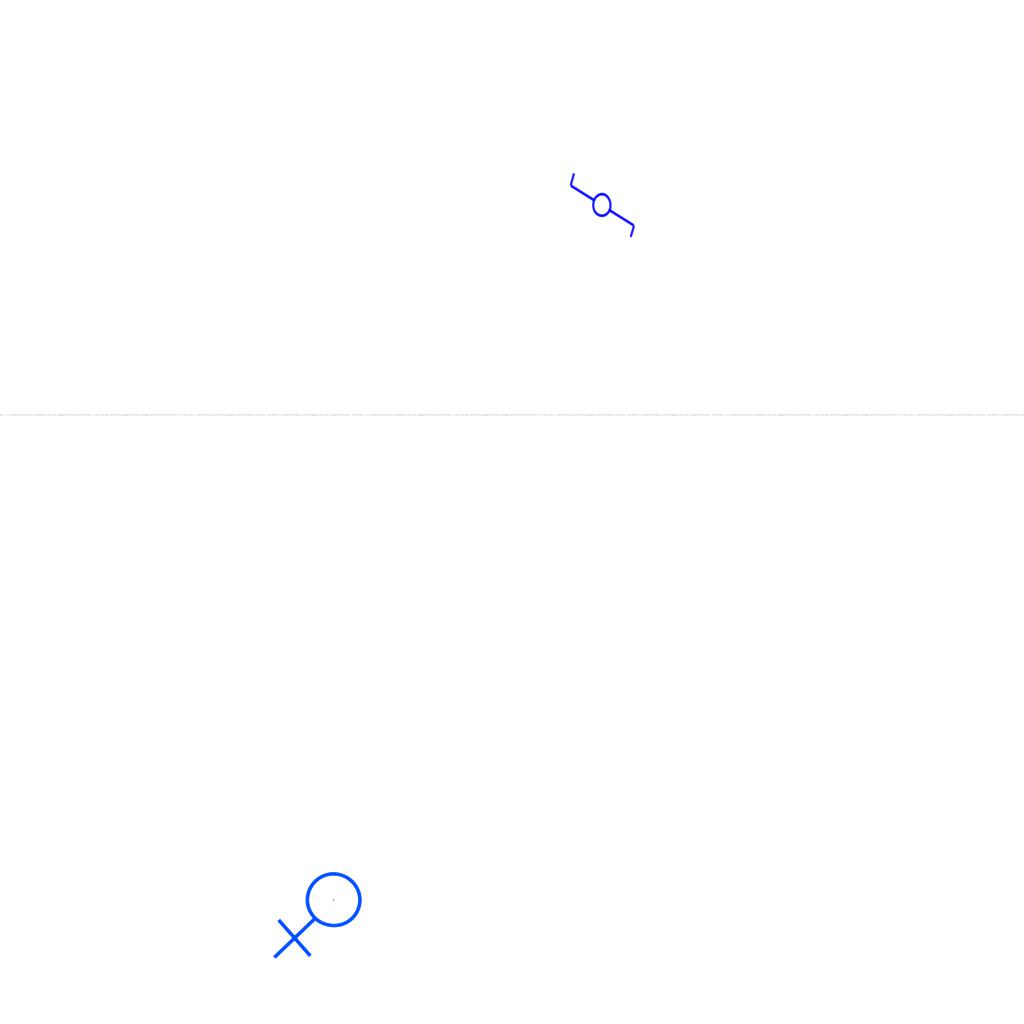Elektroanschluss_allgemein_230V_Geraeteanschlussdose_230V: (272, 870, 371, 964)
Wechselschalter: (567, 162, 639, 240)
